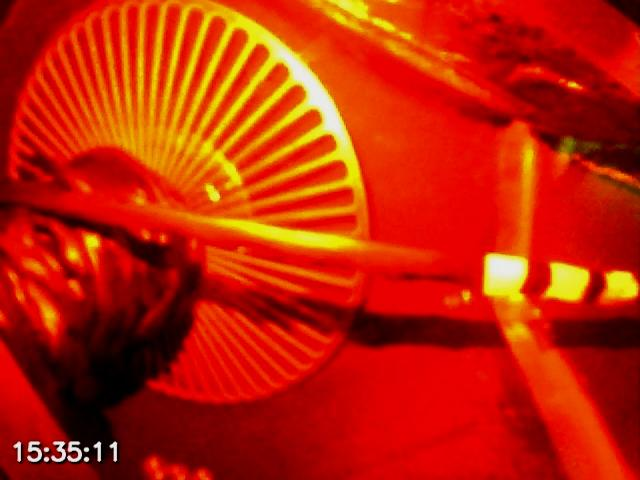white-dots: (482, 252, 640, 310)
